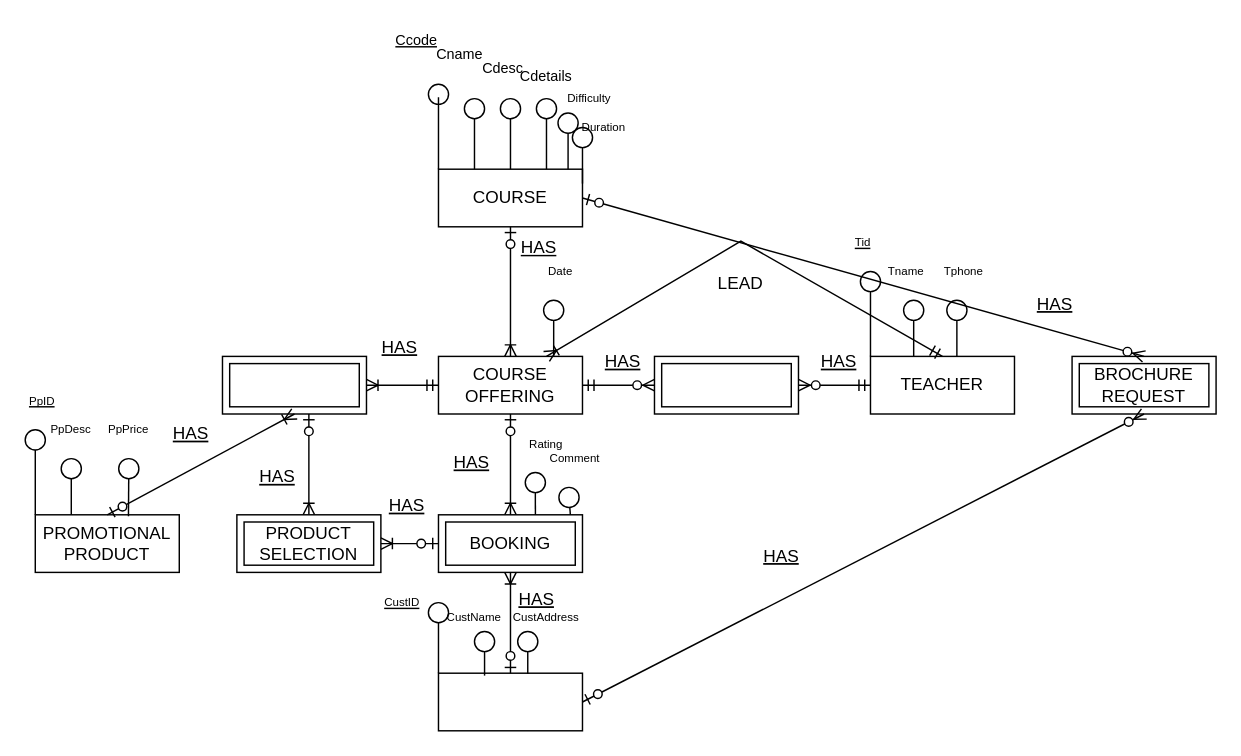
Some shapes in this 1241 by 756 pixel diagram are drawn without their labels. Here are the shapes that lost their labels. From the top down, the centre of each, then its label:
At (x=293, y=384): "PRODUCT OFFERING".
At (x=725, y=384): "TEACHER_ SESSION".
At (x=509, y=701): "CUSTOMER".
